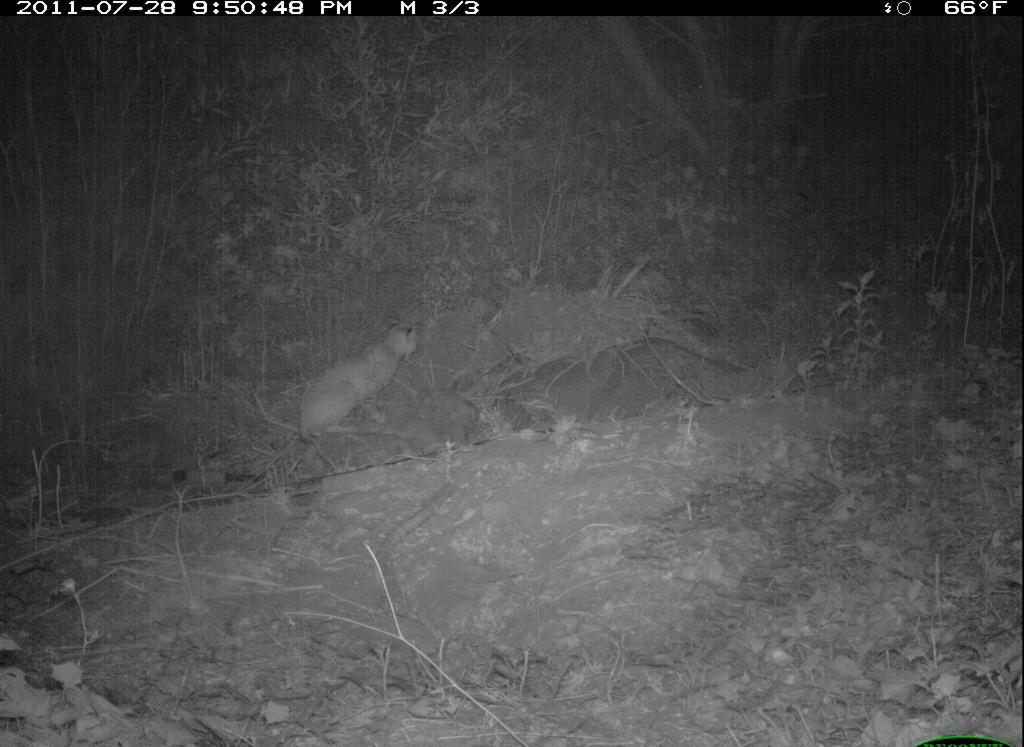bobcat: (260, 314, 436, 483)
